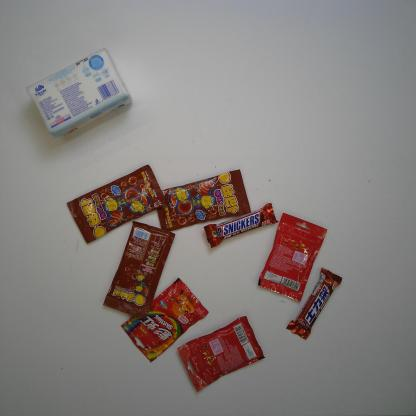Candy: (65, 163, 170, 245), (119, 276, 209, 364), (101, 220, 178, 321), (175, 315, 267, 393), (257, 212, 328, 302), (155, 168, 252, 231)
Chocolate: (286, 266, 344, 342), (203, 202, 280, 249)
Tissue: (24, 45, 133, 140)
